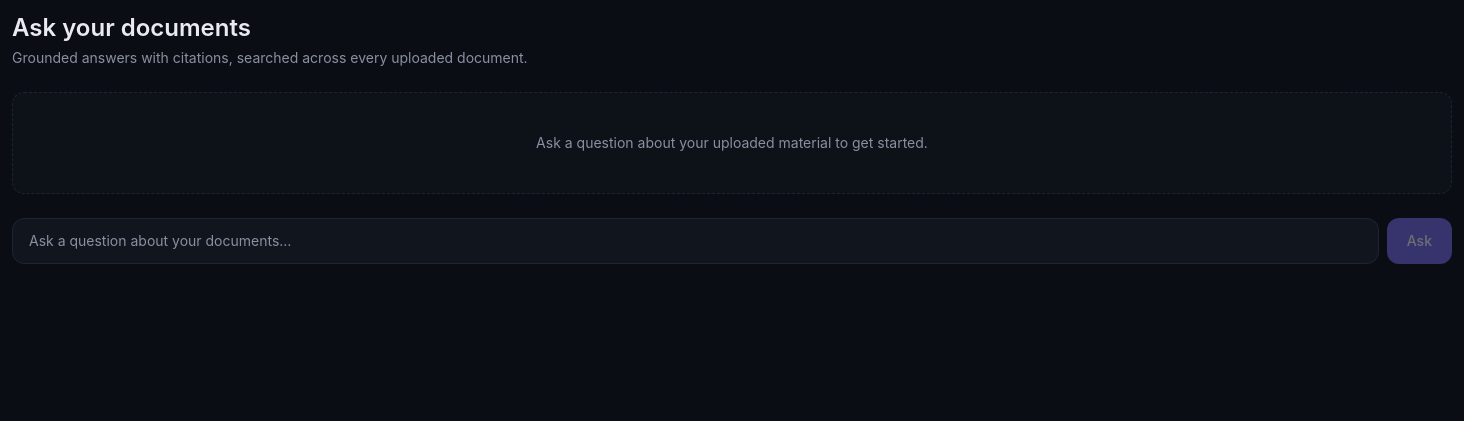
it: chat request renders the answer with citations
Type "What is photosynthesis?" into the field labelled "Ask a question".
click(695, 241); type("What is photosynthesis?")  # box left=12, top=218, right=1379, bottom=264
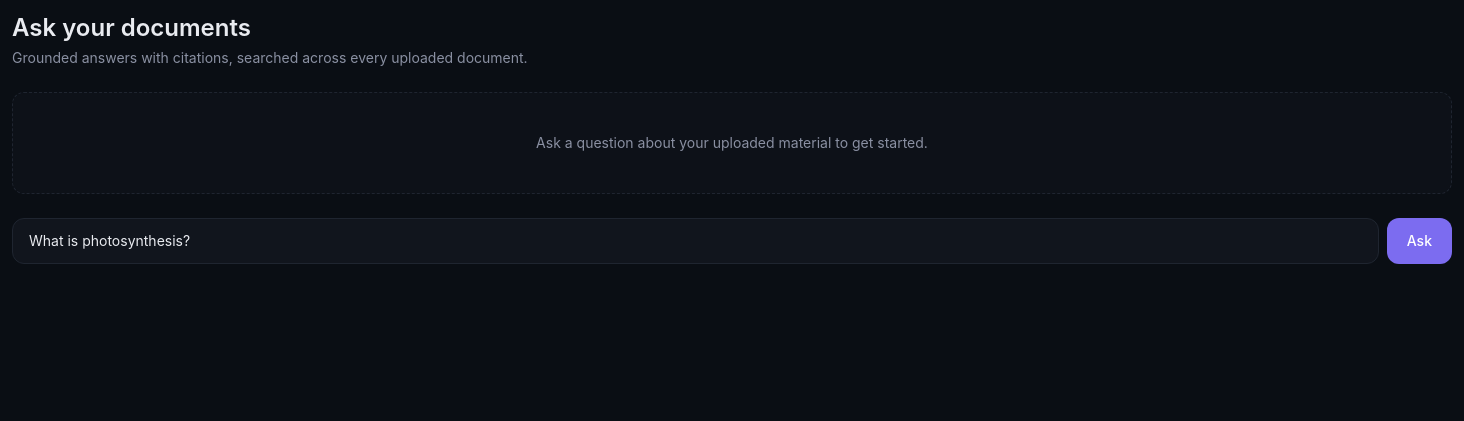
Click the button "Ask".
click(1419, 241)  # box left=1387, top=218, right=1452, bottom=264
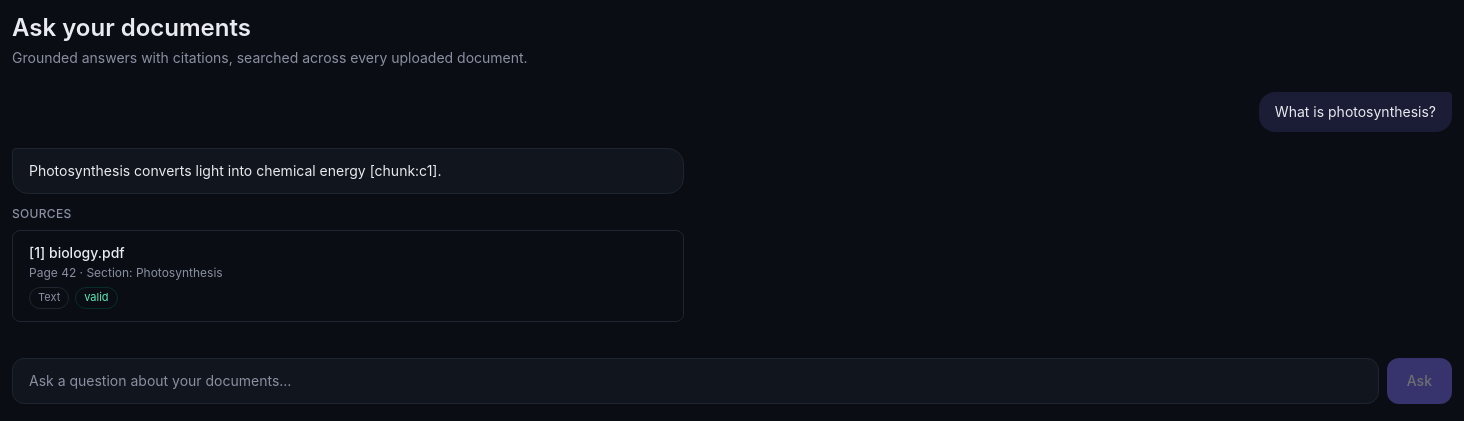
Now the text "Photosynthesis converts light into chemical energy [chunk:c1]." is shown, box left=29, top=162, right=442, bottom=179
Now the text "[1] biology.pdf" is shown, box left=29, top=244, right=125, bottom=261
Now the text "Page 42 · Section: Photosynthesis" is shown, box left=29, top=265, right=223, bottom=281
